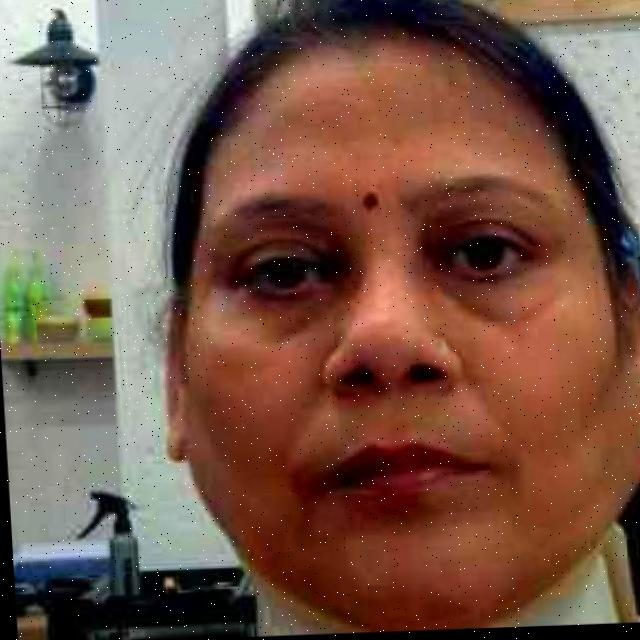puffy_eyes: (426, 280, 560, 324), (258, 299, 334, 340)
